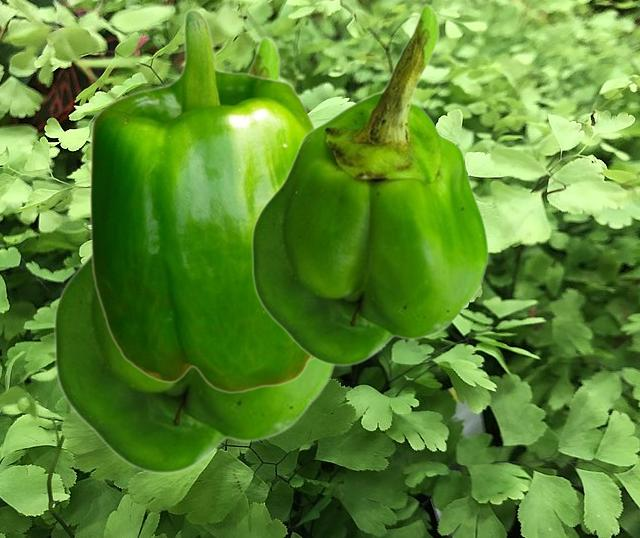bell_pepper: (52, 34, 337, 473), (88, 8, 316, 393), (250, 2, 488, 365)
